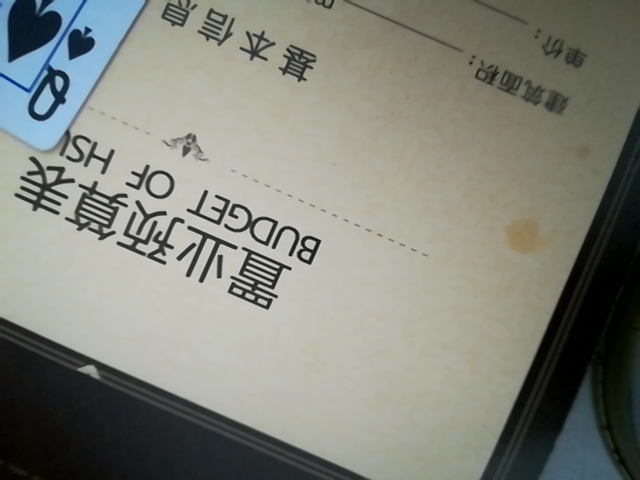ht q: (0, 0, 265, 150)
